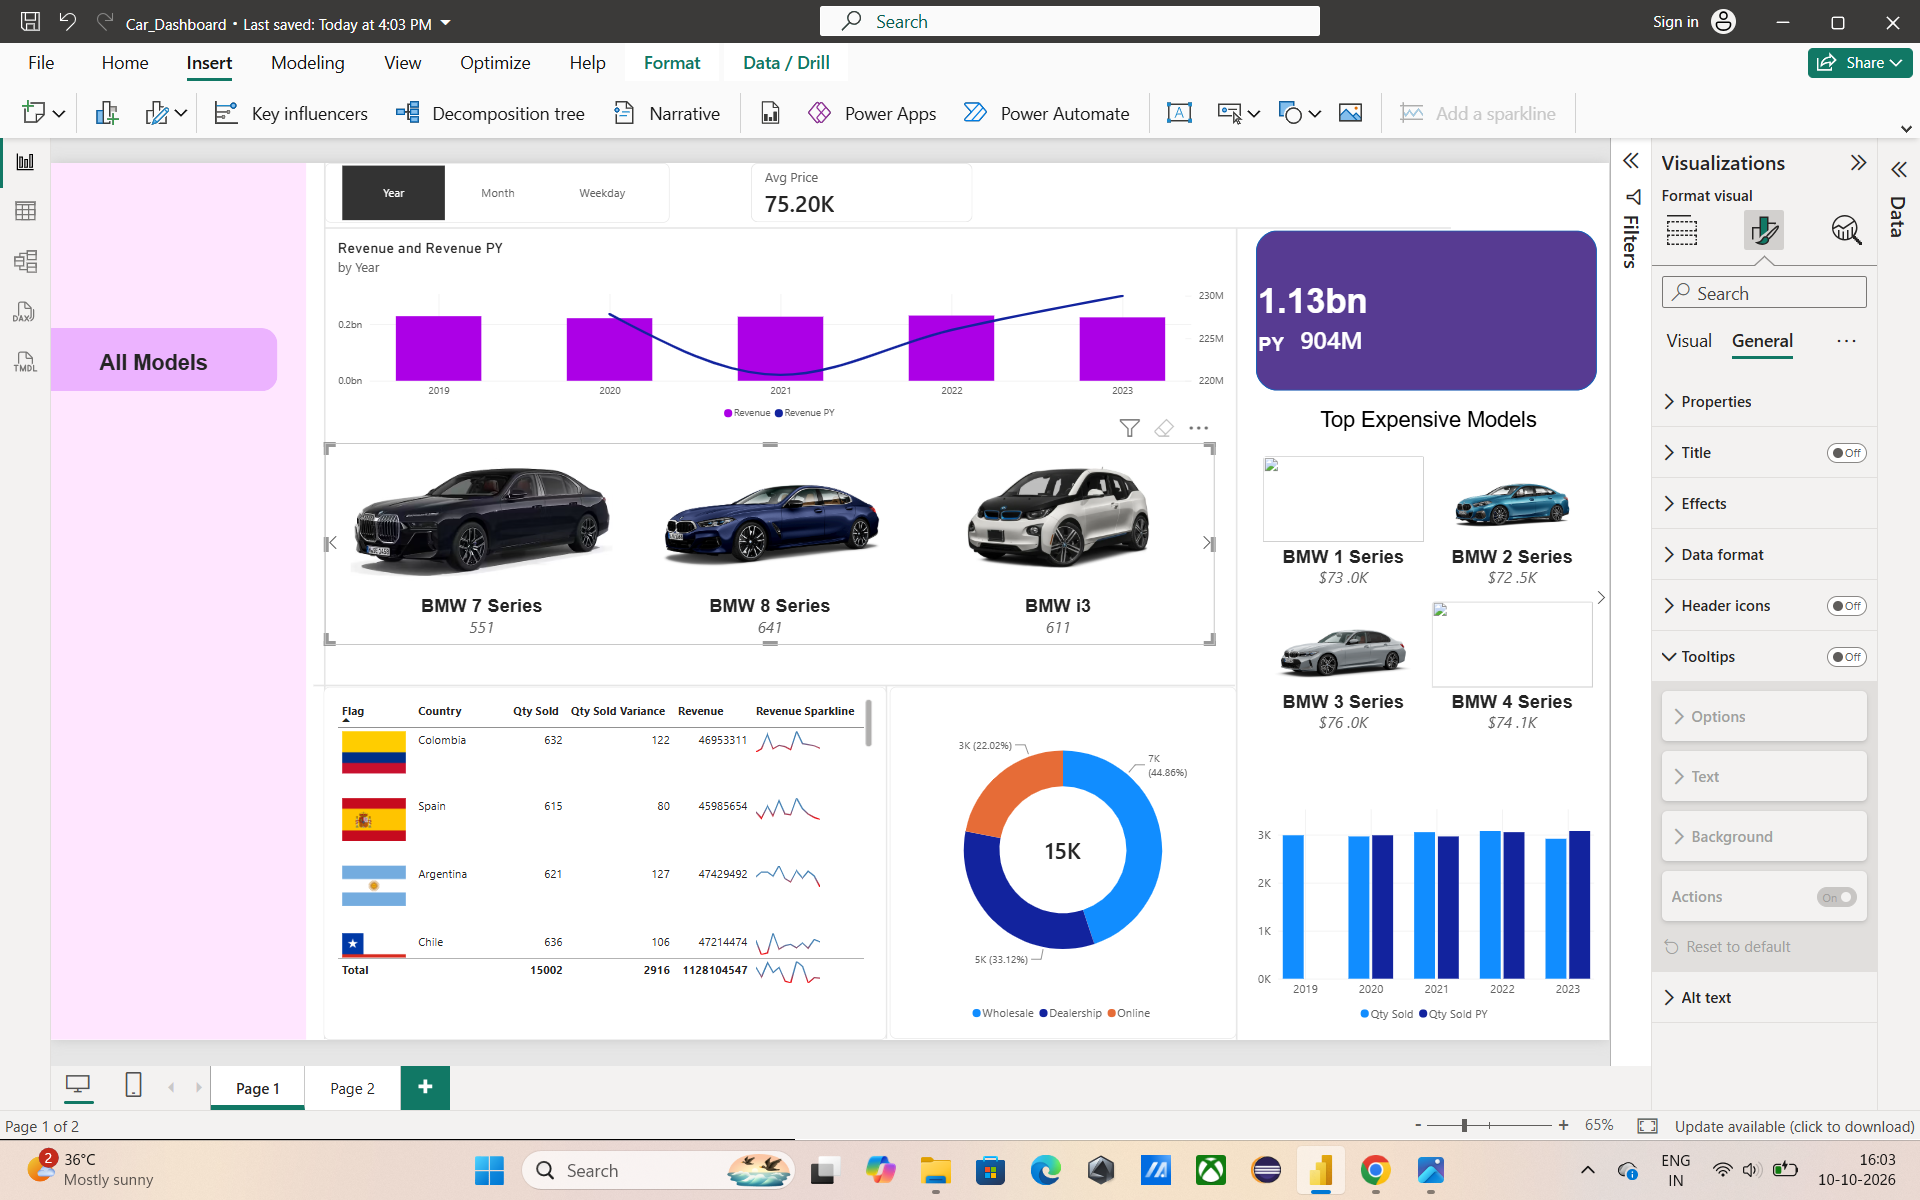

Layout of this report page (visuals, bound fields, positions):
{"tool":"powerbi","page":{"name":"Page 1","canvas":[1920,1080],"ordinal":0},"visuals":[{"type":"group","id":"g1","title":"Group 1","box":[1484.3,83.7,420.4,197.1],"z":0},{"type":"shape","box":[0,0,314.3,1080.4],"z":1000},{"type":"lineClusteredColumnComboChart","fields":{"Category":["Calendar.Weekday"],"Y":["All Measures.Revenue"],"Y2":["All Measures.Revenue PY"]},"box":[336.7,79.5,1124,257.2],"z":2000},{"type":"slicer","fields":{"Values":["PeriodSlicer.PeriodSlicer"]},"box":[336.5,0,425,73.2],"z":3000},{"type":"shape","box":[1434.1,79.8,54,1000],"z":4000},{"type":"shape","box":[311.1,0,52.4,1079.4],"z":5000},{"type":"cardVisual","fields":{"Data":["All Measures.Revenue"]},"box":[1437.3,135.6,235.5,68.4],"z":6000},{"type":"shape","box":[336.5,54,1387.3,52.4],"z":7000},{"type":"cardVisual","fields":{"Data":["All Measures.Revenue PY"]},"box":[1522.7,183.1,114,68],"z":8000},{"type":"shape","box":[1484.3,83.7,420,197.2],"z":9000,"group":"g1"},{"type":"textbox","box":[1487.8,209.3,68,41.9],"z":9000},{"type":"advancedSlicerVisual","fields":{"Values":["dimModel.Model"]},"box":[336.6,345.3,1097.1,247.7],"z":10000},{"type":"shape","box":[322.9,617.3,1135.5,52.3],"z":11000},{"type":"textbox","box":[1473.8,301.7,446.5,61],"z":12000},{"type":"advancedSlicerVisual","fields":{"Values":["dimModel.Model"]},"box":[1472.1,360.9,448.3,351.4],"z":13000},{"type":"shape","box":[1002.9,643.9,53.2,435],"z":14000},{"type":"clusteredColumnChart","fields":{"Category":["Calendar.Year"],"Y":["All Measures.Qty Sold","All Measures.Qty Sold PY"]},"box":[1470.2,775,446.4,303.9],"z":15000},{"type":"donutChart","fields":{"Category":["dimChannel.Channel"],"Y":["All Measures.Qty Sold"]},"box":[1033.5,645.4,427.1,433.4],"z":16000},{"type":"tableEx","fields":{"Values":["dimCountry.Flag","dimCountry.Country","All Measures.Qty Sold","All Measures.Qty Sold Variance","All Measures.Revenue","All Measures.Revenue Sparkline"]},"box":[336.2,645.8,693.3,435],"z":17000},{"type":"shape","box":[0,202.7,279,77.9],"z":18000},{"type":"textbox","box":[40.5,230.7,173,39],"z":19000},{"type":"actionButton","box":[1.6,208.9,277.5,68.6],"z":20000},{"type":"cardVisual","fields":{"Data":["All Measures.Avg Price"]},"box":[861.6,0,273.8,73.3],"z":20001}]}

Visuals, with their boxes on the page's 1920x1080 design canvas (x1, y1, x2, y2). These are canvas units, not pixel positions in the 1920x1200 screenshot, which may show the page scaled, cropped or inside an application window:
"Group 1" group: [left=1484, top=84, right=1905, bottom=281]
shape: [left=0, top=0, right=314, bottom=1080]
lineClusteredColumnComboChart - Calendar.Weekday x All Measures.Revenue: [left=337, top=80, right=1461, bottom=337]
slicer - PeriodSlicer.PeriodSlicer: [left=336, top=0, right=762, bottom=73]
shape: [left=1434, top=80, right=1488, bottom=1080]
shape: [left=311, top=0, right=364, bottom=1079]
cardVisual - All Measures.Revenue: [left=1437, top=136, right=1673, bottom=204]
shape: [left=336, top=54, right=1724, bottom=106]
cardVisual - All Measures.Revenue PY: [left=1523, top=183, right=1637, bottom=251]
shape: [left=1484, top=84, right=1904, bottom=281]
textbox: [left=1488, top=209, right=1556, bottom=251]
advancedSlicerVisual - dimModel.Model: [left=337, top=345, right=1434, bottom=593]
shape: [left=323, top=617, right=1458, bottom=670]
textbox: [left=1474, top=302, right=1920, bottom=363]
advancedSlicerVisual - dimModel.Model: [left=1472, top=361, right=1920, bottom=712]
shape: [left=1003, top=644, right=1056, bottom=1079]
clusteredColumnChart - Calendar.Year x All Measures.Qty Sold: [left=1470, top=775, right=1917, bottom=1079]
donutChart - dimChannel.Channel x All Measures.Qty Sold: [left=1034, top=645, right=1461, bottom=1079]
tableEx - dimCountry.Flag x dimCountry.Country: [left=336, top=646, right=1030, bottom=1081]
shape: [left=0, top=203, right=279, bottom=281]
textbox: [left=40, top=231, right=214, bottom=270]
actionButton: [left=2, top=209, right=279, bottom=278]
cardVisual - All Measures.Avg Price: [left=862, top=0, right=1135, bottom=73]
